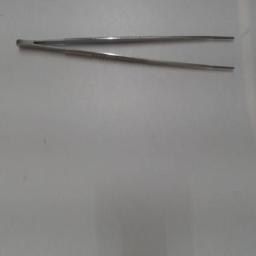DeBakey Dissector: (14, 26, 238, 78)
